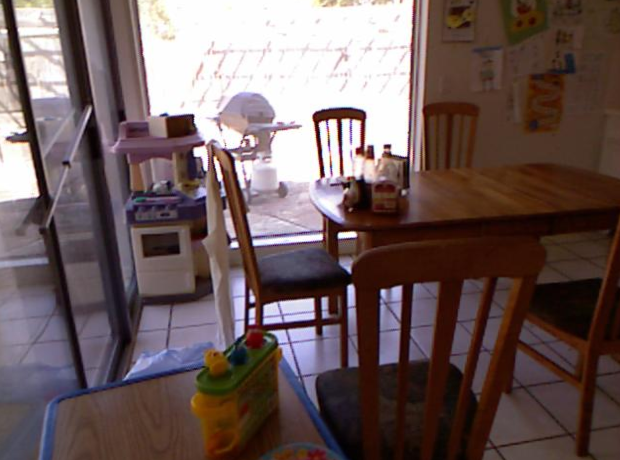chair: (350, 236, 506, 460), (211, 140, 351, 326), (422, 102, 479, 167), (314, 109, 366, 175)
table: (307, 172, 620, 232)
